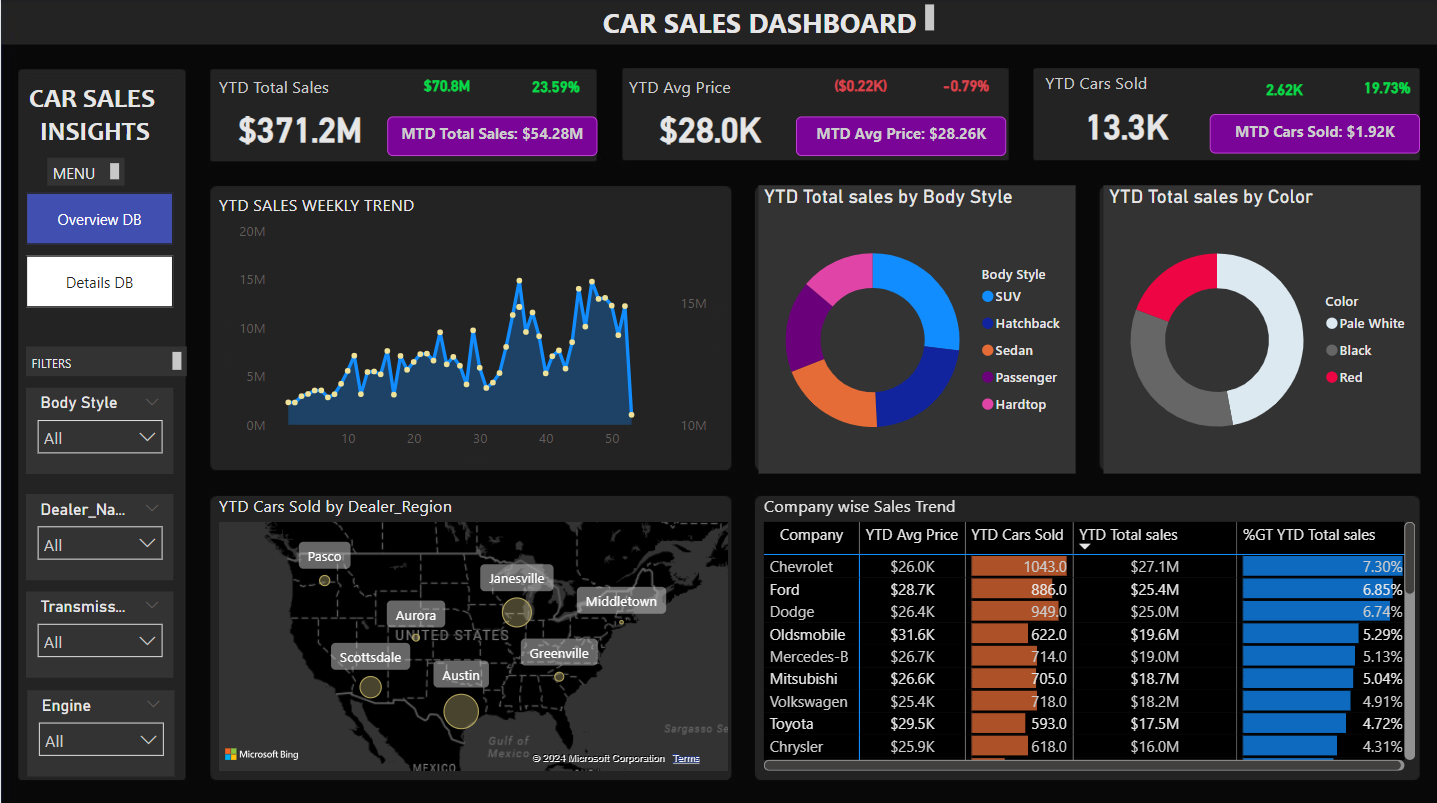

This screenshot's page, from the dashboard's own definition file:
{"tool":"powerbi","page":{"name":"Overview DB","canvas":[1280,720],"ordinal":0},"visuals":[{"type":"card","title":"YTD Total Sales","fields":{"Values":["car_data.YTD Total sales"]},"box":[189.5,67.4,154.7,74.4],"z":0},{"type":"card","fields":{"Values":["car_data.Sales Difference"]},"box":[360.5,65.1,73.3,26.7],"z":1000},{"type":"card","fields":{"Values":["car_data.YOY Sales Growth"]},"box":[465.1,65.1,58.1,30.2],"z":2000},{"type":"card","fields":{"Values":["car_data.MTD KPI"]},"box":[344.2,104.7,187.2,35],"z":3000},{"type":"card","title":"YTD Avg Price","fields":{"Values":["car_data.YTD Avg Price"]},"box":[554.7,67.4,154.7,74.4],"z":4000},{"type":"card","fields":{"Values":["car_data.Avg Price Diff"]},"box":[729.1,65.1,73.3,26.7],"z":5000},{"type":"card","fields":{"Values":["car_data.YOY Avg Price Growth"]},"box":[822.1,65.1,73.3,26.7],"z":6000},{"type":"card","fields":{"Values":["car_data.MTD Avg Price KPI"]},"box":[708.1,104.7,187.2,34.9],"z":7000},{"type":"card","title":"YTD Cars Sold","fields":{"Values":["car_data.YTD Cars Sold"]},"box":[925.6,65.1,154.7,74.4],"z":8000},{"type":"card","fields":{"Values":["car_data.Cars Sold Diff"]},"box":[1107,67.4,73.3,26.7],"z":9000},{"type":"card","fields":{"Values":["car_data.YOY Car Sold Growth"]},"box":[1205.8,66.3,58.1,26.7],"z":10000},{"type":"card","fields":{"Values":["car_data.MTD Cars Sold KPI"]},"box":[1076.7,102.3,187.2,34.9],"z":11000},{"type":"areaChart","title":"YTD SALES WEEKLY TREND","fields":{"Category":["Calendar table.week"],"Y2":["car_data.MAX POINT"],"Y":["Sum(car_data.Price ($))"]},"box":[189.5,172.1,462.8,246.5],"z":12000},{"type":"donutChart","fields":{"Category":["car_data.Body Style"],"Y":["car_data.YTD Total sales"]},"box":[674.4,166.3,282.6,257],"z":13000},{"type":"donutChart","fields":{"Y":["car_data.YTD Total sales"],"Category":["car_data.Color"]},"box":[981.4,166.3,282.6,257],"z":14000},{"type":"map","fields":{"Category":["car_data.Dealer_Region"],"Size":["car_data.YTD Cars Sold"]},"box":[189.5,440.7,462.8,251.2],"z":15000},{"type":"pivotTable","title":"Company wise Sales Trend","fields":{"Rows":["car_data.Company"],"Values":["car_data.YTD Avg Price","car_data.YTD Cars Sold","car_data.YTD Total sales1","car_data.YTD Total sales"]},"box":[674.4,440.7,589.5,251.2],"z":16000},{"type":"textbox","box":[531.4,0,304.7,37.2],"z":17000},{"type":"slicer","fields":{"Values":["car_data.Body Style"]},"box":[22.1,346.5,131.4,76.7],"z":18000},{"type":"slicer","fields":{"Values":["car_data.Dealer_Name"]},"box":[22.1,440.7,131.4,76.7],"z":19000},{"type":"slicer","fields":{"Values":["car_data.Transmission"]},"box":[22.1,527.9,131.4,76.7],"z":20000},{"type":"slicer","fields":{"Values":["car_data.Engine"]},"box":[23.3,615.1,131.4,76.7],"z":21000},{"type":"textbox","box":[22.1,309.3,143,26.7],"z":22000},{"type":"textbox","box":[8.1,67.4,146.5,69.8],"z":23000},{"type":"pageNavigator","box":[22.1,172.1,131.4,103.5],"z":24000},{"type":"textbox","box":[40.7,141.9,68.6,24.4],"z":24001}]}

Visuals, with their boxes in screenshot pixels (x1, y1, x2, y2), scaled from the page's 1280x720 canvas onto the 1437x803 screenshot:
"YTD Total Sales" card: region(213, 75, 386, 158)
card - car_data.Sales Difference: region(405, 73, 487, 102)
card - car_data.YOY Sales Growth: region(522, 73, 587, 106)
card - car_data.MTD KPI: region(386, 117, 597, 156)
"YTD Avg Price" card: region(623, 75, 796, 158)
card - car_data.Avg Price Diff: region(819, 73, 901, 102)
card - car_data.YOY Avg Price Growth: region(923, 73, 1005, 102)
card - car_data.MTD Avg Price KPI: region(795, 117, 1005, 156)
"YTD Cars Sold" card: region(1039, 73, 1213, 156)
card - car_data.Cars Sold Diff: region(1243, 75, 1325, 105)
card - car_data.YOY Car Sold Growth: region(1354, 74, 1419, 104)
card - car_data.MTD Cars Sold KPI: region(1209, 114, 1419, 153)
"YTD SALES WEEKLY TREND" areaChart: region(213, 192, 732, 467)
donutChart - car_data.Body Style x car_data.YTD Total sales: region(757, 185, 1074, 472)
donutChart - car_data.YTD Total sales x car_data.Color: region(1102, 185, 1419, 472)
map - car_data.Dealer_Region x car_data.YTD Cars Sold: region(213, 492, 732, 772)
"Company wise Sales Trend" pivotTable: region(757, 492, 1419, 772)
textbox: region(597, 0, 939, 41)
slicer - car_data.Body Style: region(25, 386, 172, 472)
slicer - car_data.Dealer_Name: region(25, 492, 172, 577)
slicer - car_data.Transmission: region(25, 589, 172, 674)
slicer - car_data.Engine: region(26, 686, 174, 772)
textbox: region(25, 345, 185, 375)
textbox: region(9, 75, 174, 153)
pageNavigator: region(25, 192, 172, 307)
textbox: region(46, 158, 123, 185)
